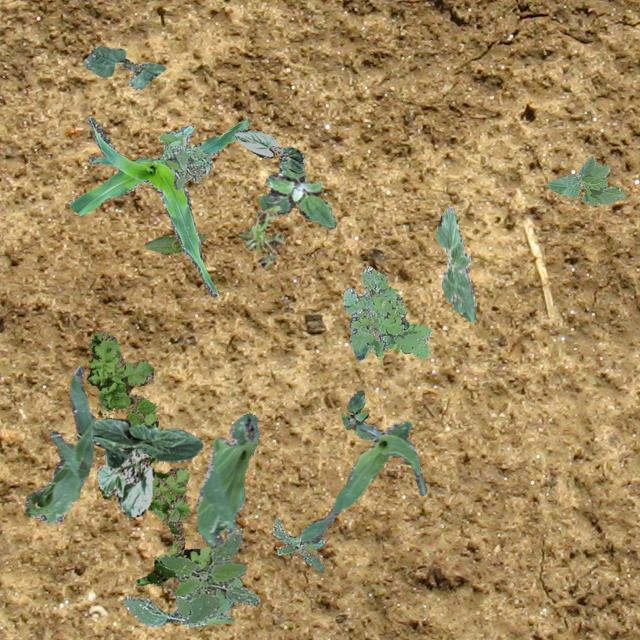crop: (66, 116, 248, 296), (300, 420, 426, 542), (24, 366, 94, 522), (195, 412, 258, 564), (90, 416, 202, 462), (434, 206, 476, 322), (95, 446, 154, 516), (546, 156, 626, 204), (82, 44, 164, 89), (234, 128, 304, 172), (144, 232, 206, 252)
weed: (86, 330, 210, 584), (158, 528, 258, 624), (342, 266, 430, 358), (121, 576, 242, 626), (258, 160, 336, 227), (158, 124, 210, 188), (238, 204, 284, 266), (272, 518, 324, 570), (340, 389, 372, 438)
